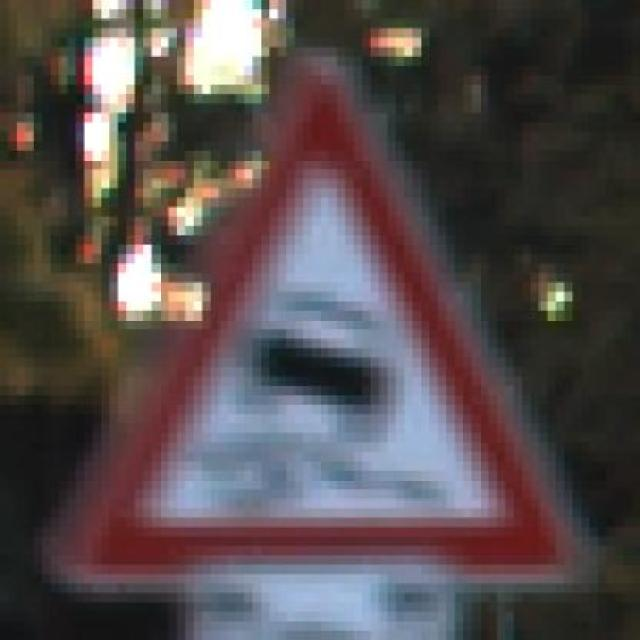Slippery Road Ahead: (41, 65, 582, 593)
